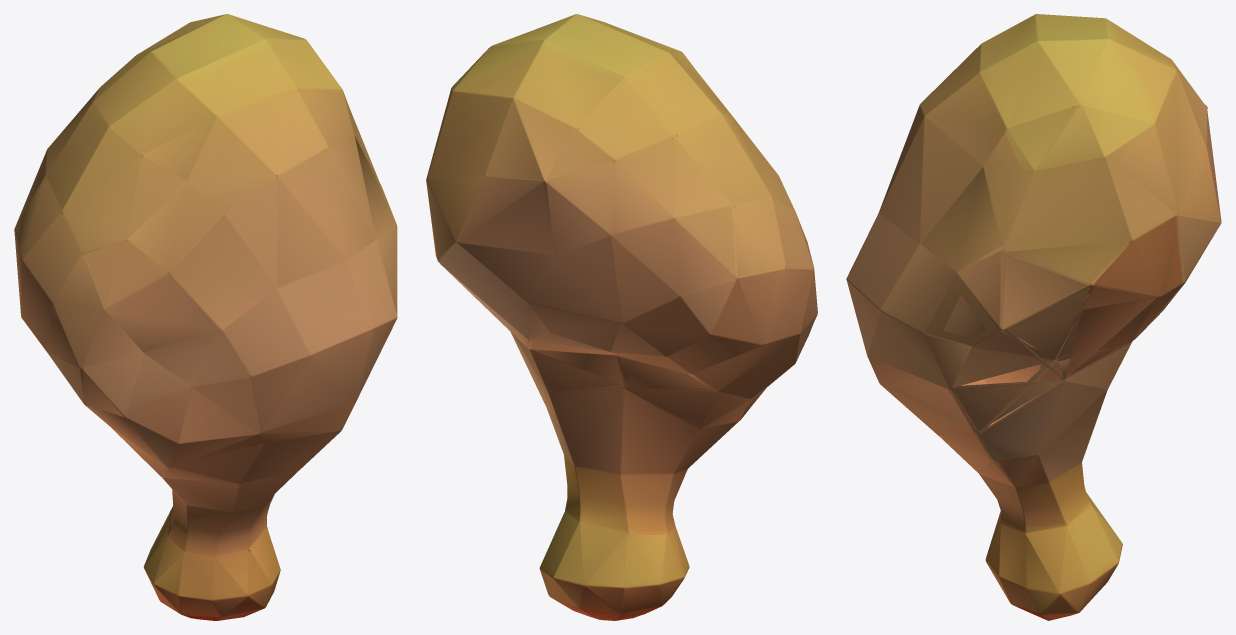
Rendered from drumstick.glb.
The picture shows the model from 3 angles, left to right: view 1: azimuth 30°, elevation 25°; view 2: azimuth 150°, elevation 25°; view 3: azimuth 270°, elevation 25°; orthographic projection. The views are drawn at different scales.
Visible parts, largest first — view 1: tripo_node_d54bd1bf-c632-41c0-9c9b-0ff2dc773593; view 2: tripo_node_d54bd1bf-c632-41c0-9c9b-0ff2dc773593; view 3: tripo_node_d54bd1bf-c632-41c0-9c9b-0ff2dc773593.
Part boxes in pixels (left/top/right/bottom): tripo_node_d54bd1bf-c632-41c0-9c9b-0ff2dc773593: left=14, top=14, right=397, bottom=620; tripo_node_d54bd1bf-c632-41c0-9c9b-0ff2dc773593: left=426, top=14, right=817, bottom=620; tripo_node_d54bd1bf-c632-41c0-9c9b-0ff2dc773593: left=846, top=14, right=1221, bottom=620.
Size of the model in its own units: 0.606 by 0.9995 by 0.5776.
1 material, 1 textured.
